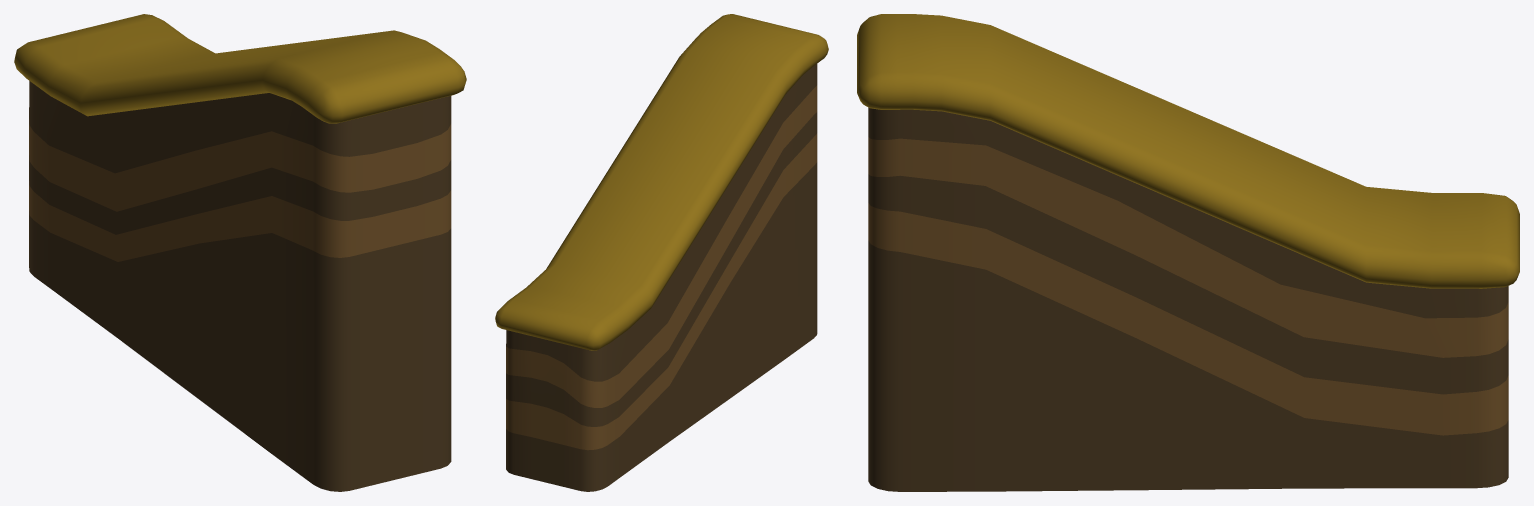
The model's file is Plateforme_pencher_m.fbx.
3 renders of one model, left to right at view 1: azimuth 30°, elevation 25°; view 2: azimuth 150°, elevation 25°; view 3: azimuth 270°, elevation 25°, orthographic. The views are drawn at different scales.
Visible parts, largest first — view 1: Cube.005; view 2: Cube.005; view 3: Cube.005.
Boxes of the visible parts, <box> form: Cube.005: <box>14,14,466,491</box>; Cube.005: <box>495,14,828,491</box>; Cube.005: <box>857,14,1519,491</box>.
Size of the model in its own units: 499 by 1298 by 1878.
